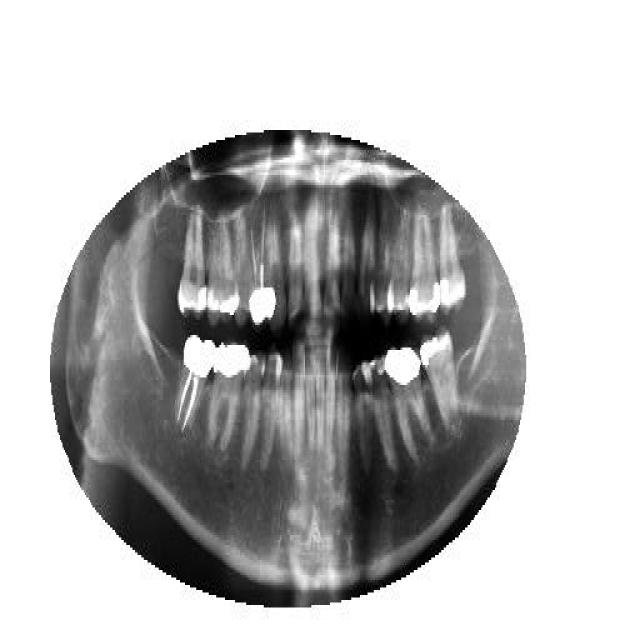Fillings: (385, 348, 436, 462), (206, 343, 249, 445), (420, 327, 459, 425), (408, 200, 438, 320)
Implant: (176, 332, 216, 432), (249, 212, 276, 330)
